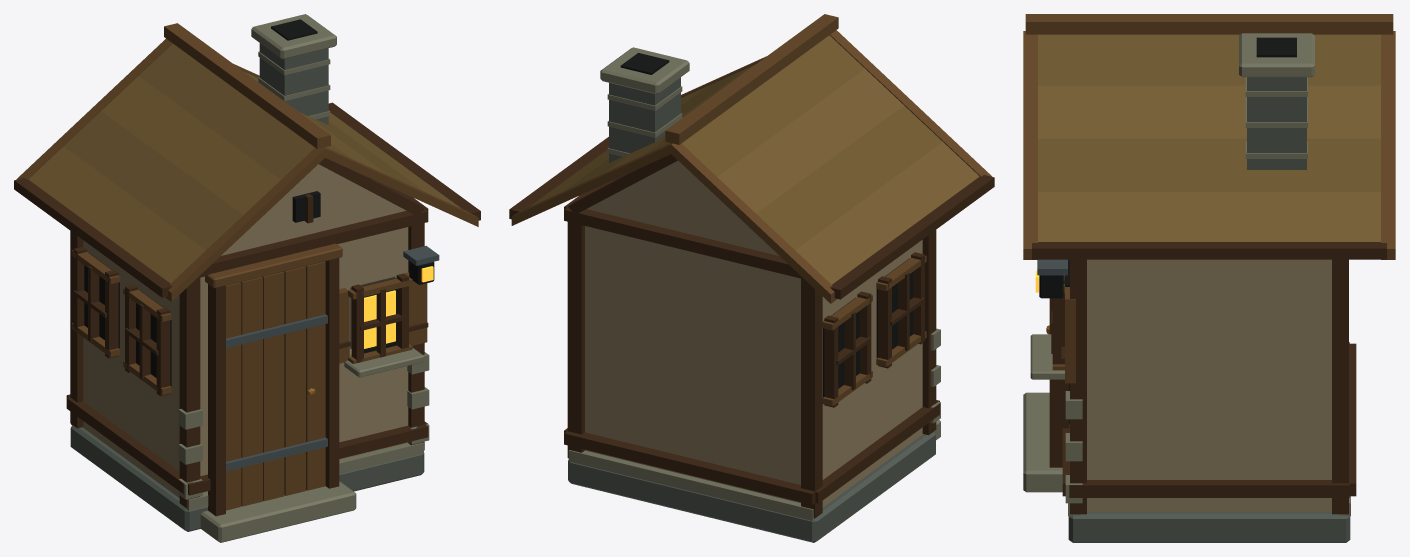
Rendered from SM_ENV_Building_01_Cottage.glb.
3 views of the same model, side by side, from view 1: azimuth 30°, elevation 25°; view 2: azimuth 150°, elevation 25°; view 3: azimuth 270°, elevation 25° (orthographic). The views are drawn at different scales.
Parts seen in each view (by area): view 1: SM_ENV_Building_01_Cottage; view 2: SM_ENV_Building_01_Cottage; view 3: SM_ENV_Building_01_Cottage.
Part boxes in pixels (bbox=[...]): SM_ENV_Building_01_Cottage: bbox=[14, 14, 480, 542]; SM_ENV_Building_01_Cottage: bbox=[509, 14, 994, 542]; SM_ENV_Building_01_Cottage: bbox=[1023, 14, 1395, 542].
Size of the model in its own units: 4.38 by 5.18 by 3.7.
